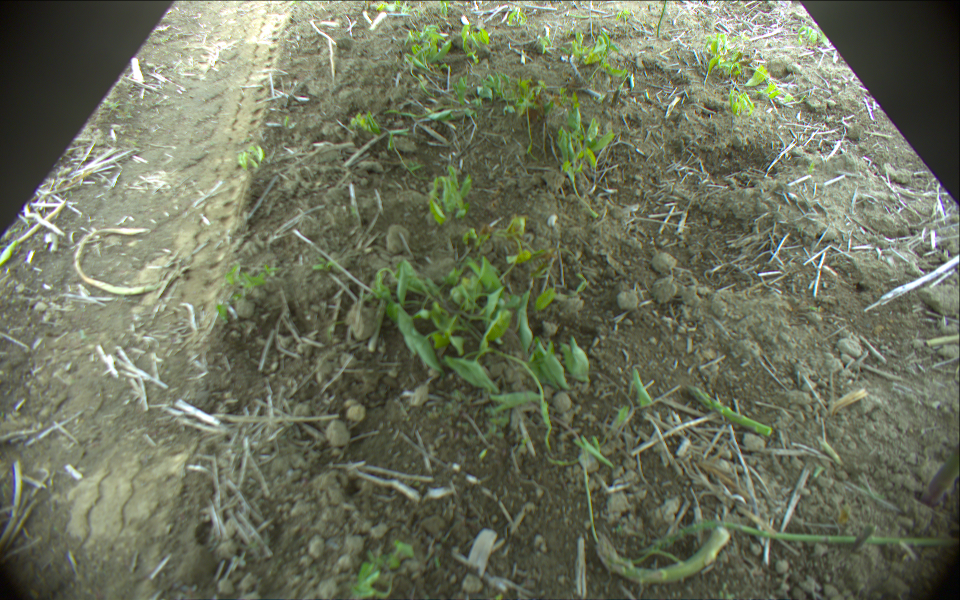aspa: (641, 521, 960, 556), (594, 526, 731, 584), (689, 387, 769, 437), (915, 441, 960, 503), (657, 1, 667, 39)
